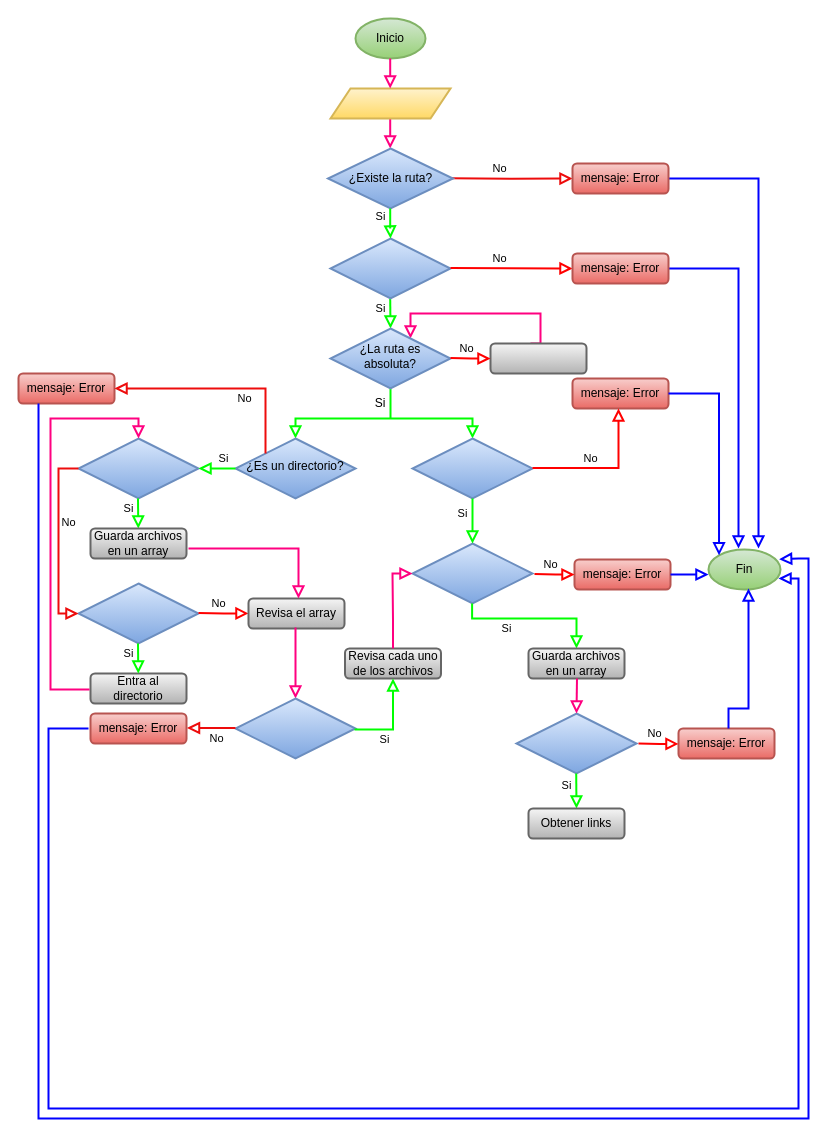
Some shapes in this 836 by 1146 pixel diagram are drawn without their labels. The shapes that lost their labels are listed below. From the top down, each one's centre as x and y in pixels, then its label:
At pixel 390 103: "Ruta (Path)".
At pixel 390 268: "¿La ruta es válida?".
At pixel 538 358: "Convertir en absoluta".
At pixel 138 468: "¿Contiene archivos?".
At pixel 472 468: "¿Es un archivo?".
At pixel 472 573: "¿Es un archivo md?".
At pixel 138 613: "¿Contiene directorios?".
At pixel 295 728: "¿Tiene archivos el array?".
At pixel 576 743: "¿Contiene links para procesar?".
